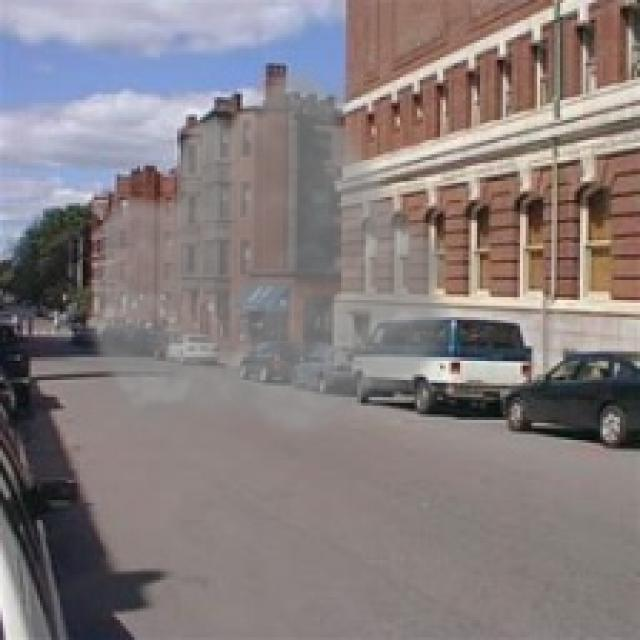smoke: (80, 57, 463, 440)
